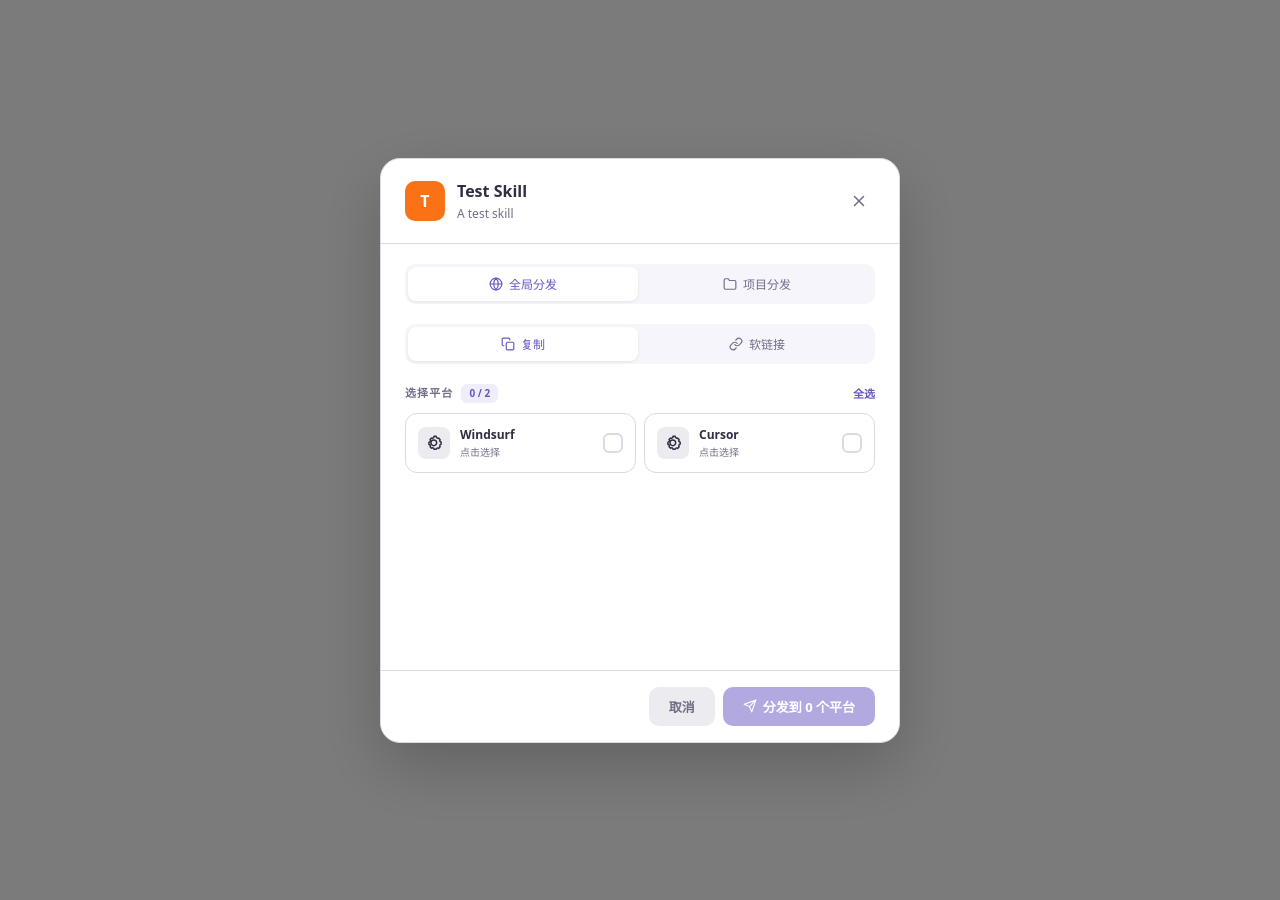
Scenario: DeployModal › deploy button enabled when platforms selected
Click the element with class "deploy-platform-card" showing "Windsurf 点击选择": [520, 442] box [405,412,636,472]
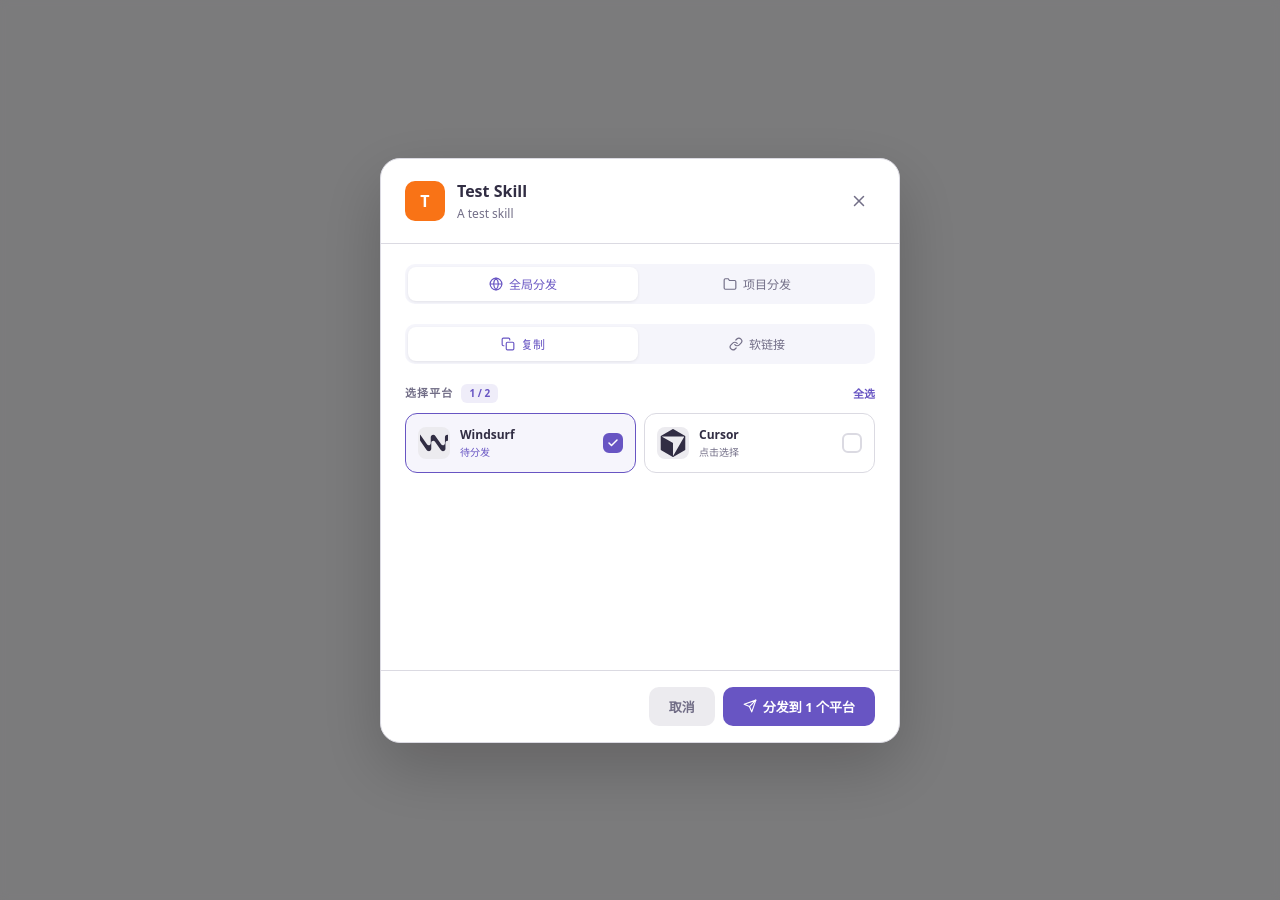
Expected: the button with class "confirm" is enabled, [723,686,875,726]
